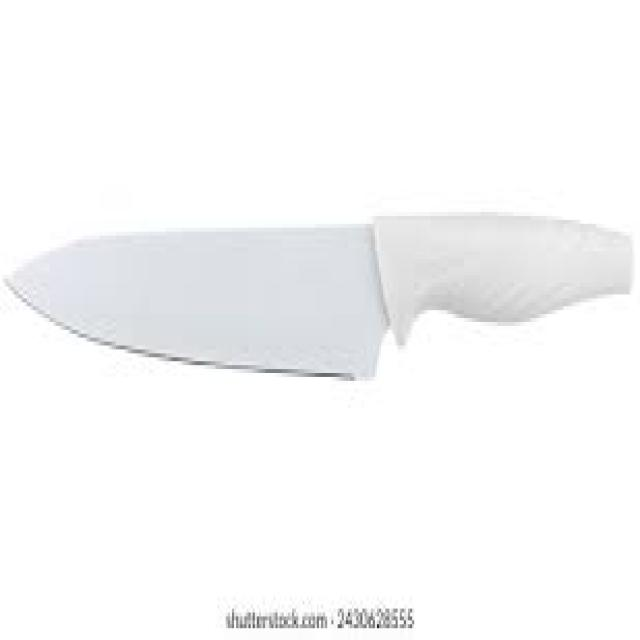Knife: (2, 208, 634, 381)
